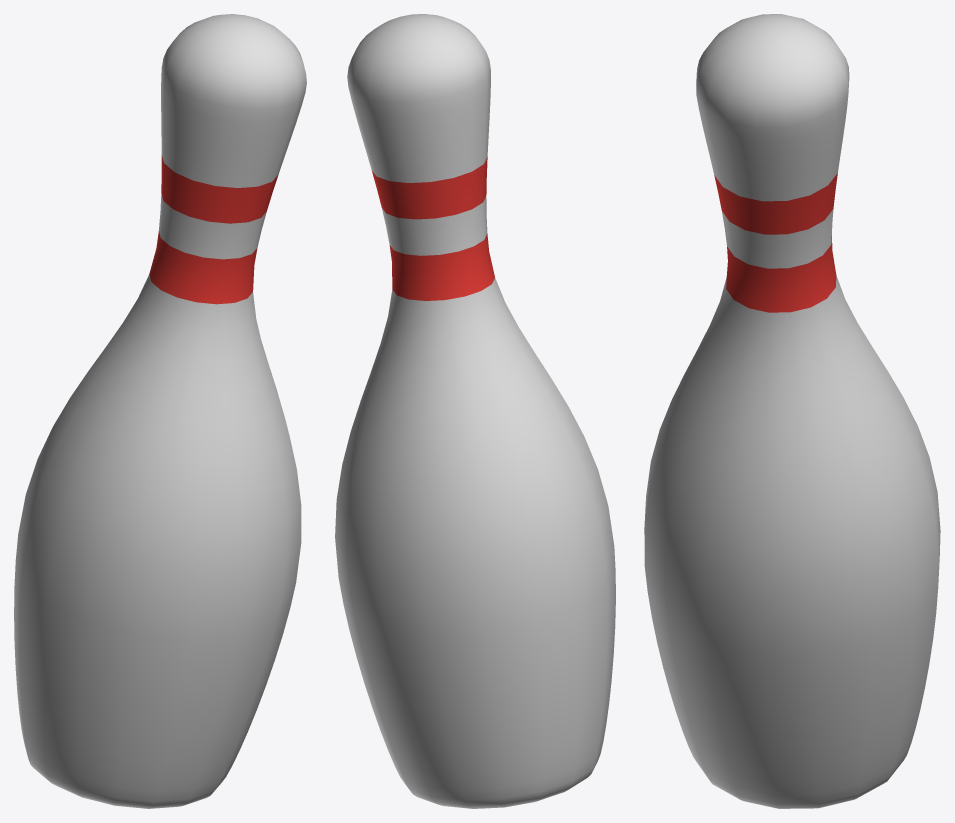
The model's file is bolo.gltf.
3 renders of one model, left to right at view 1: azimuth 30°, elevation 25°; view 2: azimuth 150°, elevation 25°; view 3: azimuth 270°, elevation 25°, orthographic. The views are drawn at different scales.
Visible parts, largest first — view 1: pinStripe_3; view 2: pinStripe_3; view 3: pinStripe_3.
Boxes of the visible parts, x1,y1,x2,y2 form: pinStripe_3: (14,14,306,808); pinStripe_3: (335,14,615,808); pinStripe_3: (644,14,940,808).
Size of the model in its own units: 0.1166 by 0.3316 by 0.1111.
